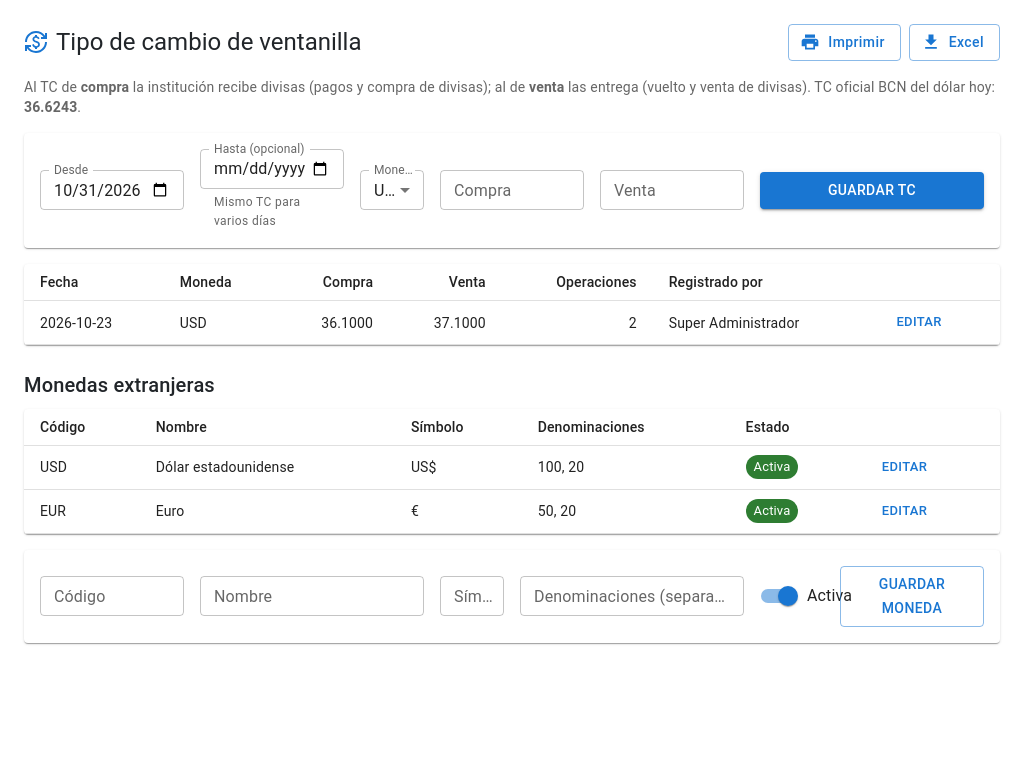
Tipo de cambio de ventanilla › edita un registro y avisa que las operaciones ya hechas conservan su TC
The width and height of the screenshot is (1024, 768).
Click the button with aria-label "Editar TC USD 2026-10-23". click: click(919, 323)
box: left=887, top=307, right=951, bottom=338
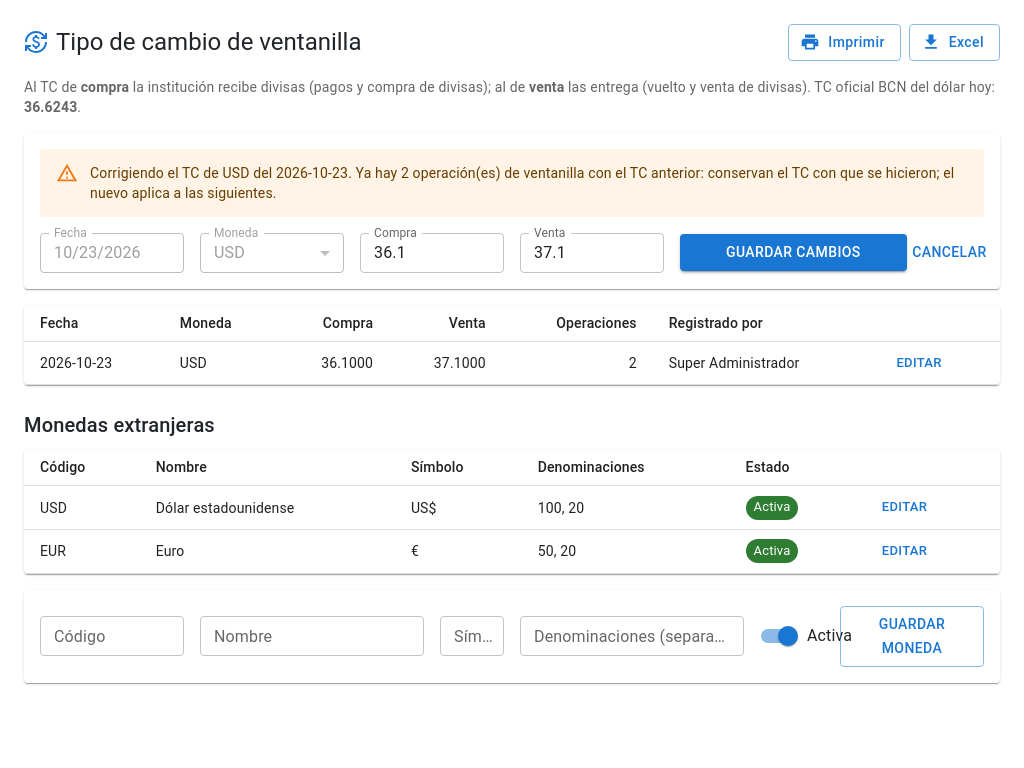
Check: the message with test id "editing-notice" shows "2 operación(es) de ventanilla con el TC anterior", box left=90, top=164, right=954, bottom=200
Check: the date field labelled "Fecha" is disabled, box left=40, top=233, right=184, bottom=273
Check: the label labelled "Hasta (opcional)" is gone
Replace the text in the number field labelled "Compra" with "36.15". click: (432, 253)
box: left=360, top=233, right=504, bottom=273
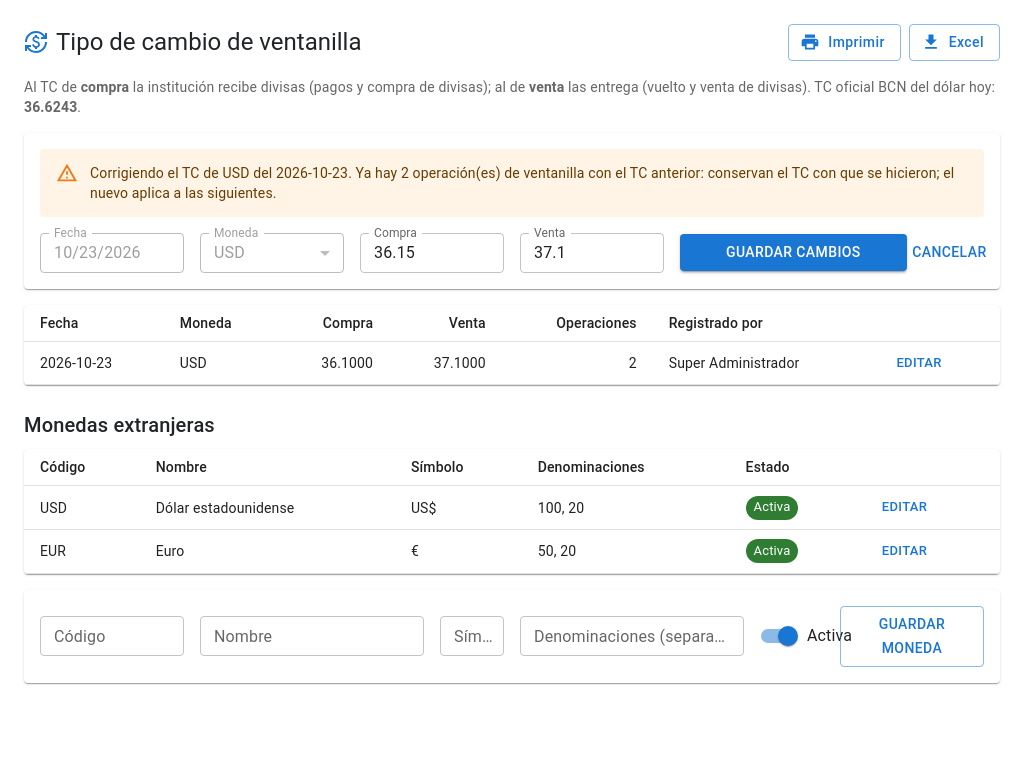
Click the button "Guardar cambios". click: click(793, 253)
box: left=680, top=234, right=907, bottom=271
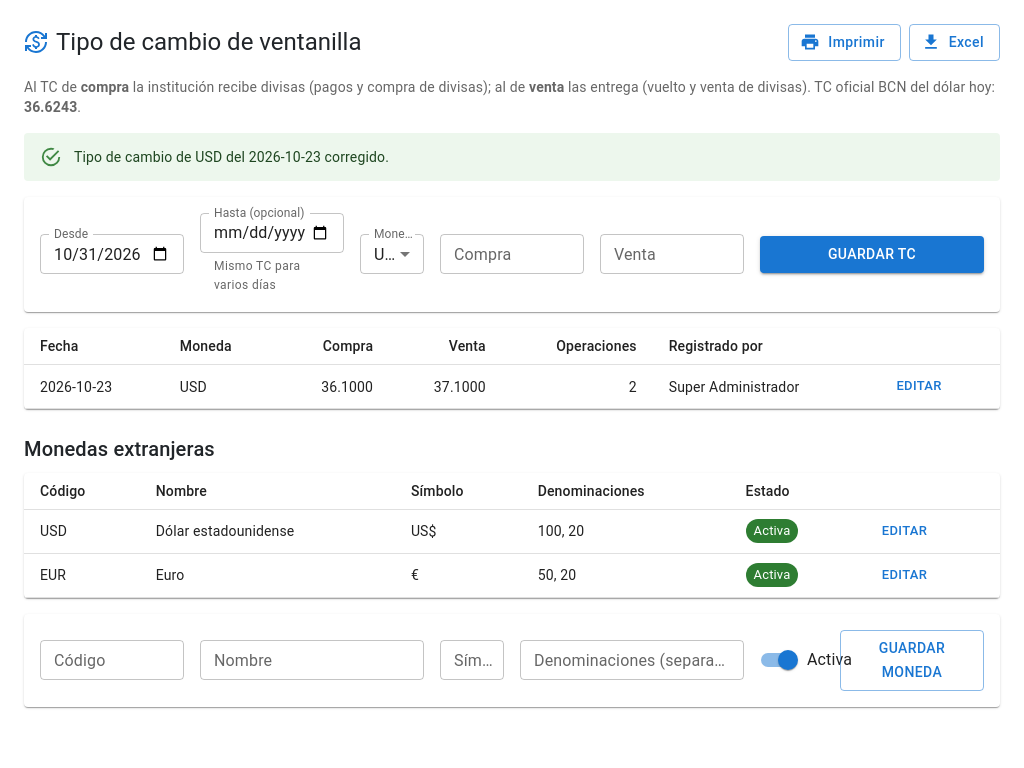
Check: the text "Tipo de cambio de USD del 2026-10-23 corregido." is shown, box left=74, top=148, right=389, bottom=164
